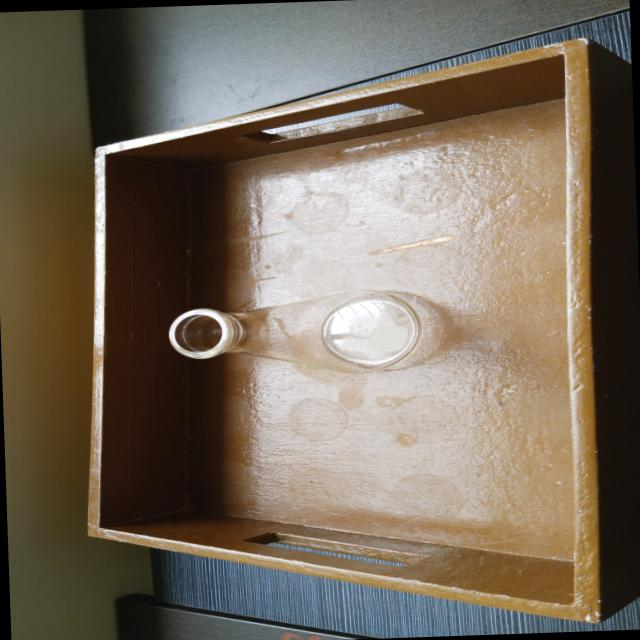erlenmeyer_flask: (161, 280, 436, 384)
